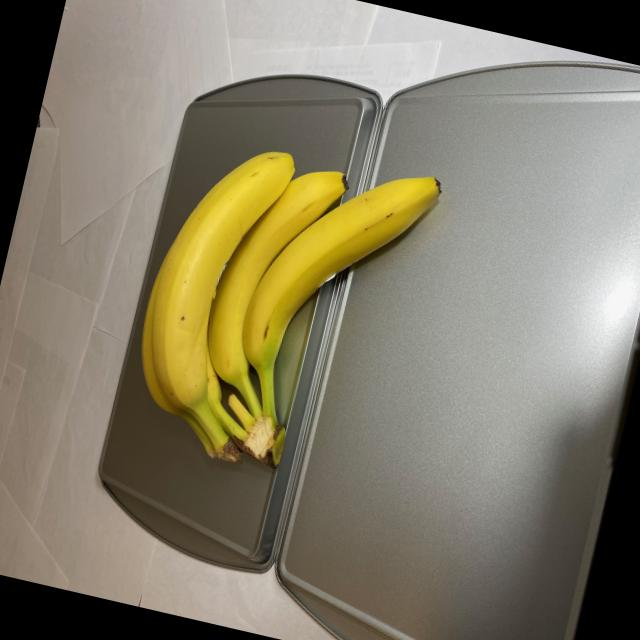banana: (113, 116, 444, 500)
